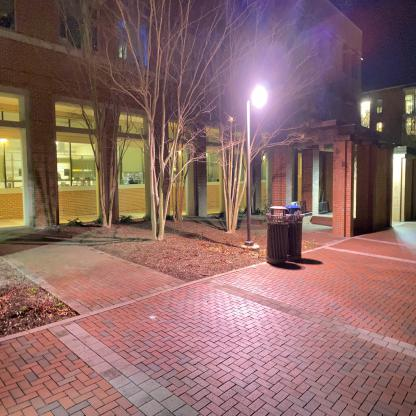eb2: (3, 0, 365, 213)
